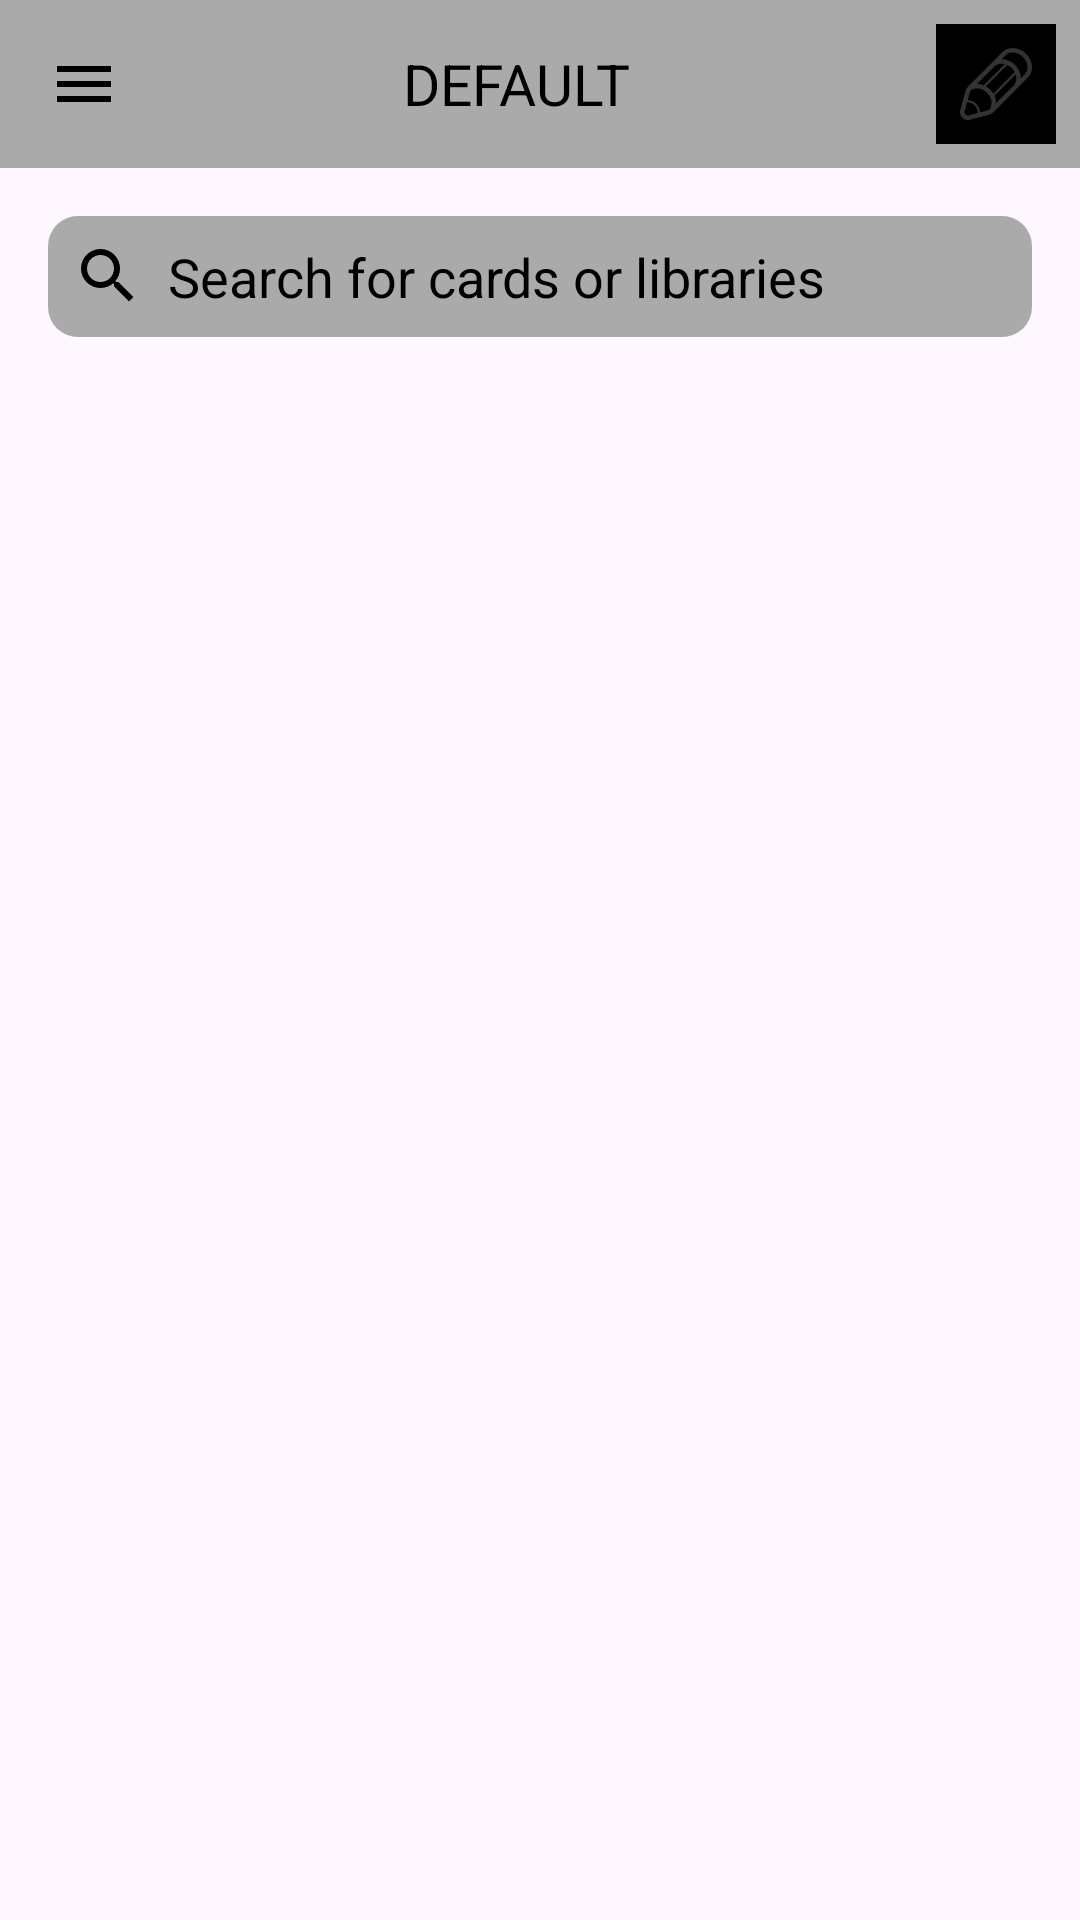

Named icons in this screenshot (1080×1920) and their bounding boxes, (x1, y1, x2, y2):
menu: (57, 66, 111, 102)
